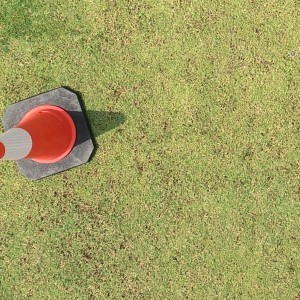traffic cone: (1, 87, 95, 181)
